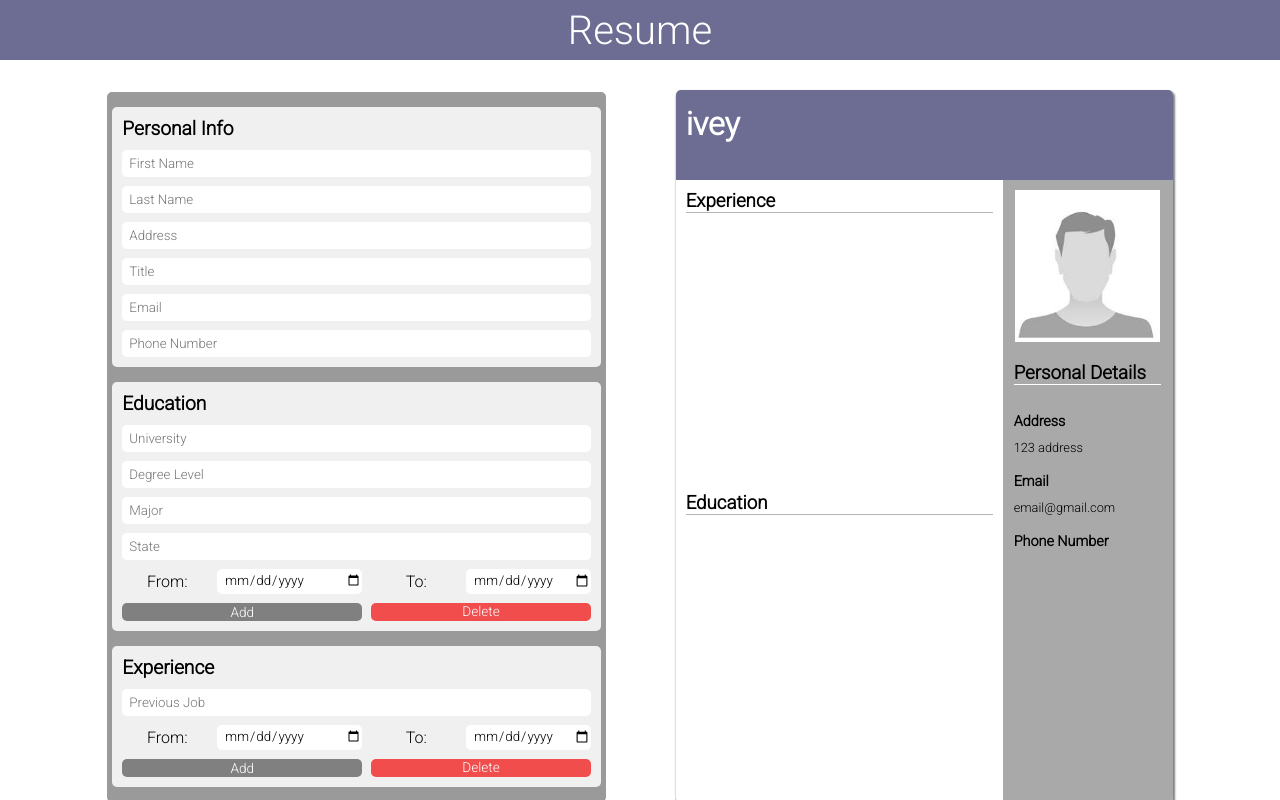
Test: Personal info section is taking input and rendering via state read › phone number input entry typed into and rendered onto resume container
Type "1231231234" into the field with placeholder "Phone Number" at (356, 343), box 122,330 -> 591,356
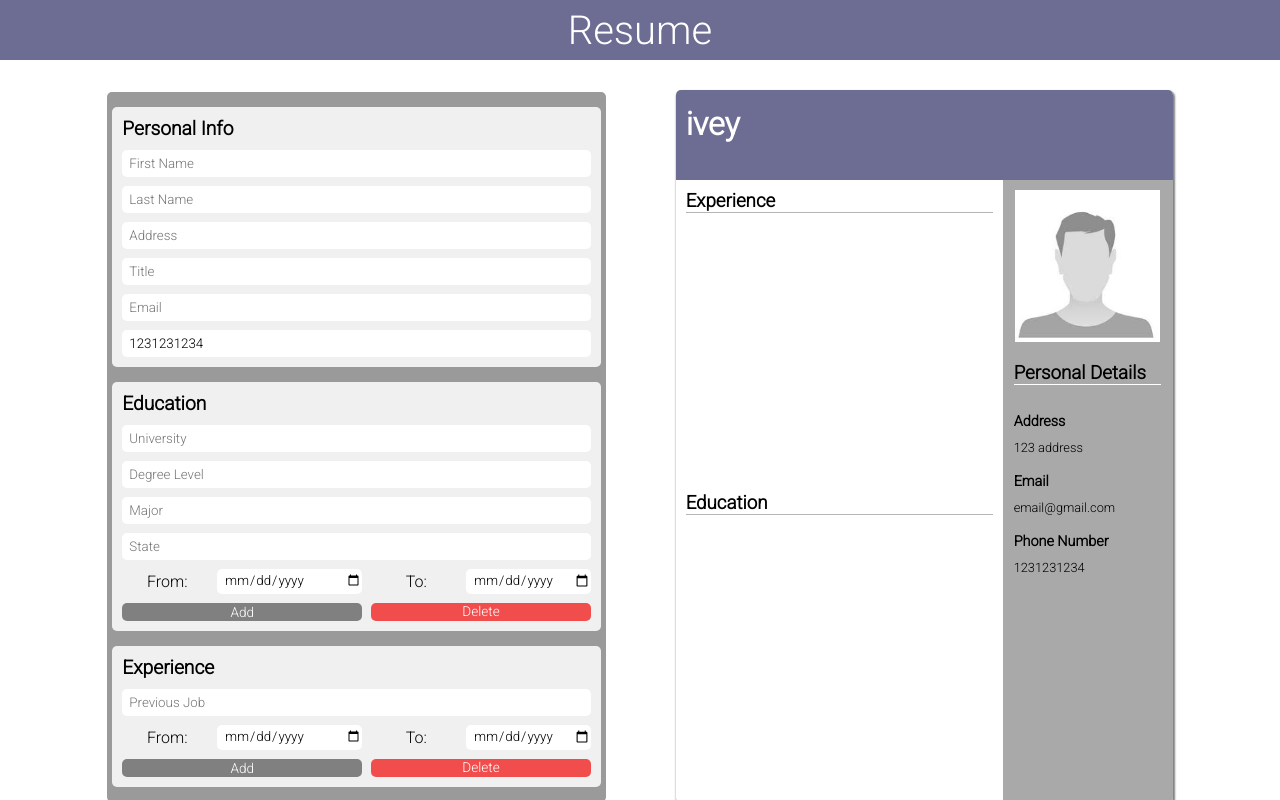
Expected: the text "1231231234" is shown, 1014,560 -> 1085,575
